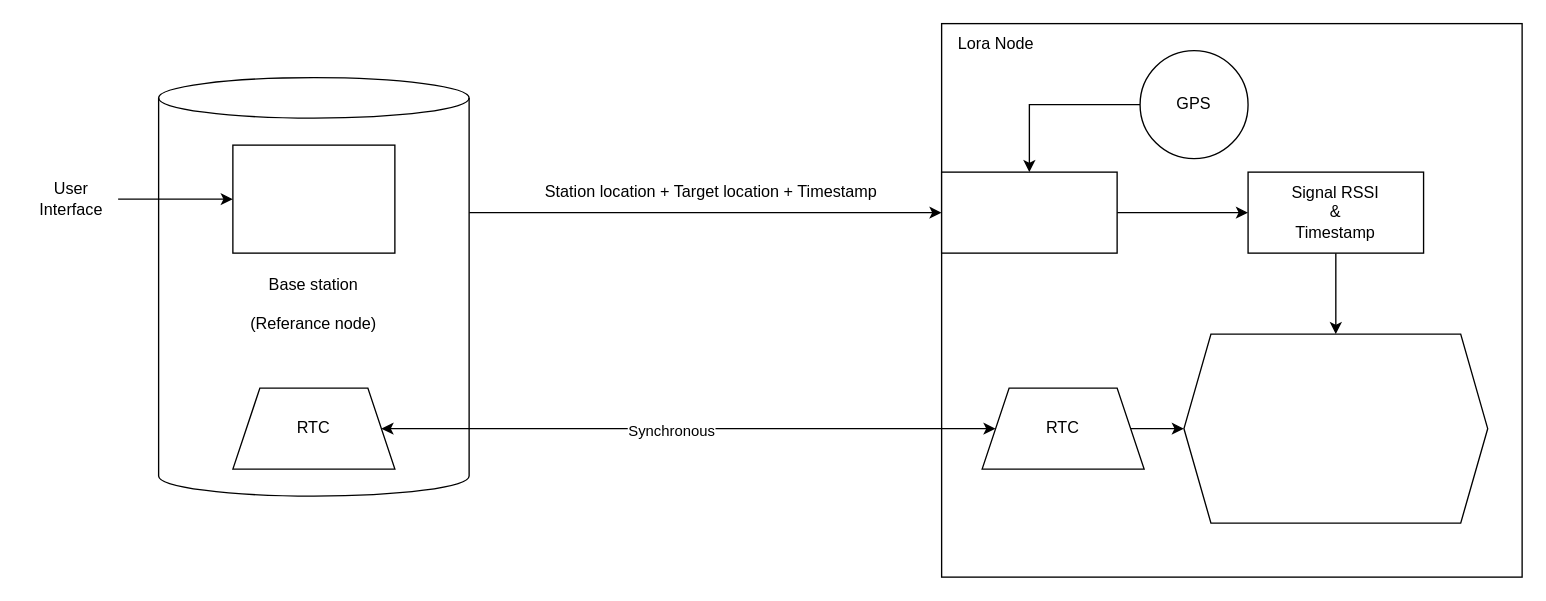
Image size: 1546x601. Some labels were removed from this diagram. Here are the shapes that lost their labels. From the top down, the centre of each, then its label:
the point at 313,198: Referance location & Target location
the point at 1028,212: All location
the point at 1335,428: Yüksek doğrulukta konum tespit algoritması & Hedef noktaya hareket algoritması
